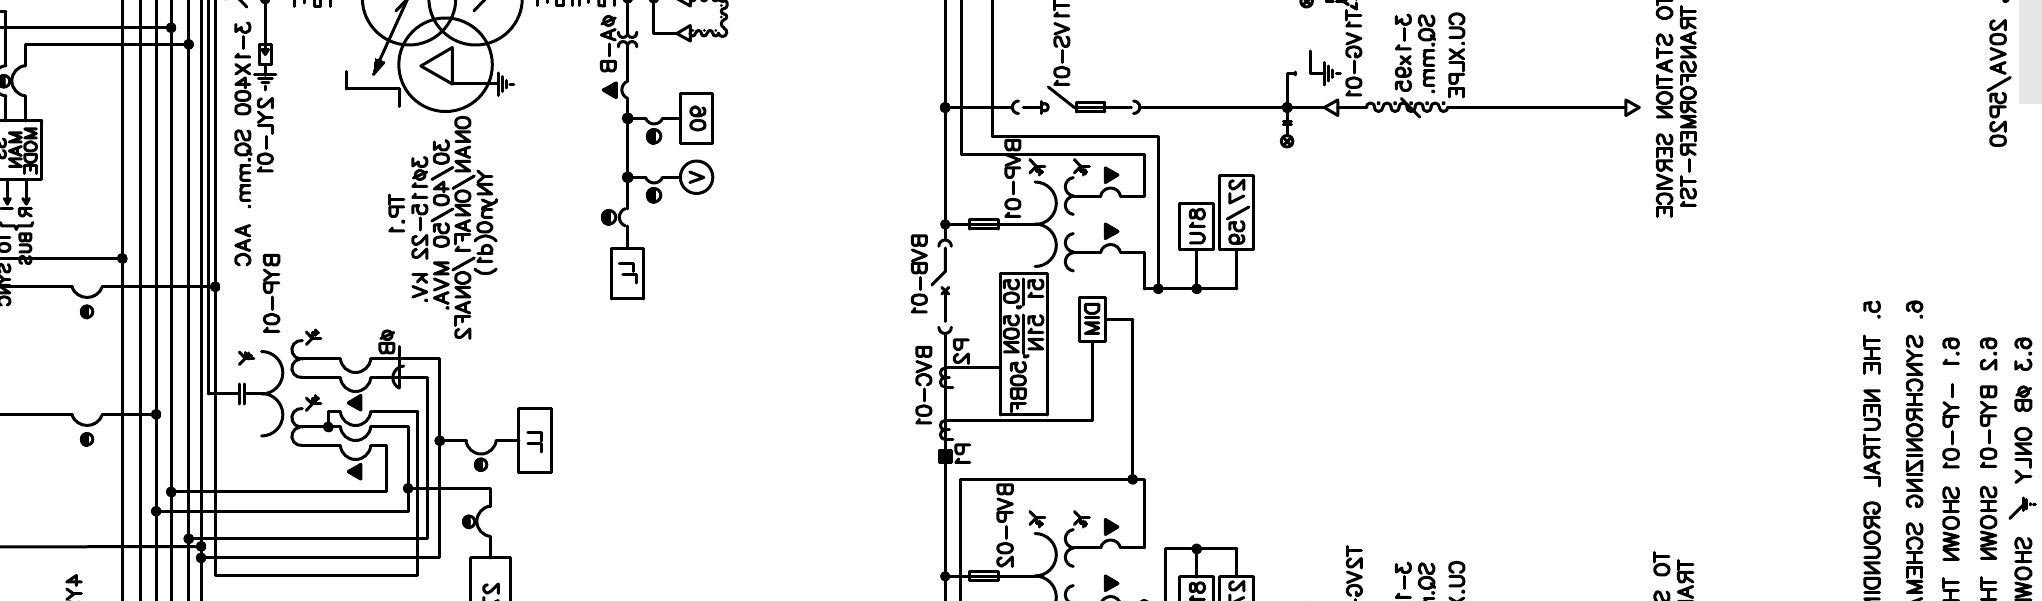115_cvt_3p: (237, 327, 323, 447)
115_la: (253, 43, 279, 91)
22_breaker: (930, 239, 953, 335)
22_ds: (1011, 86, 1141, 116)
22_gs: (1293, 48, 1343, 87)
22_ll: (1279, 120, 1296, 150)
22_vt_3p: (968, 158, 1123, 274)
DIM: (1077, 296, 1107, 343)
LL: (517, 407, 553, 475), (609, 246, 646, 300)
terminator_single: (1623, 98, 1642, 117), (1323, 98, 1340, 117)
v_m: (678, 159, 715, 196)
